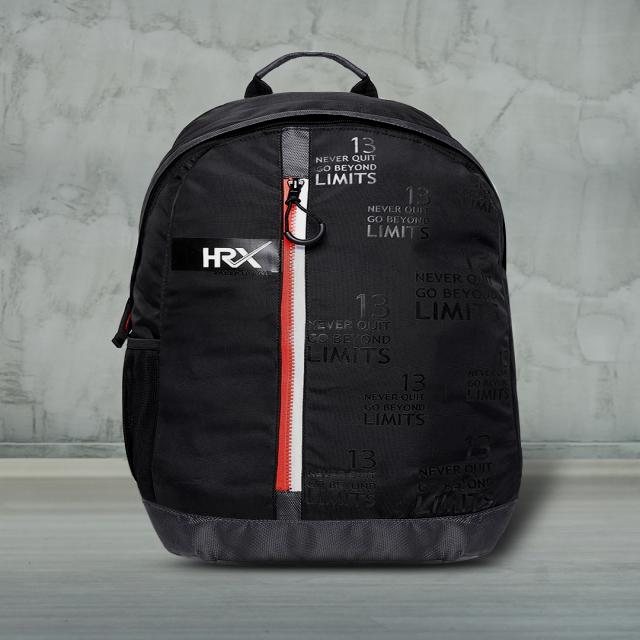backpack: (113, 52, 525, 568)
